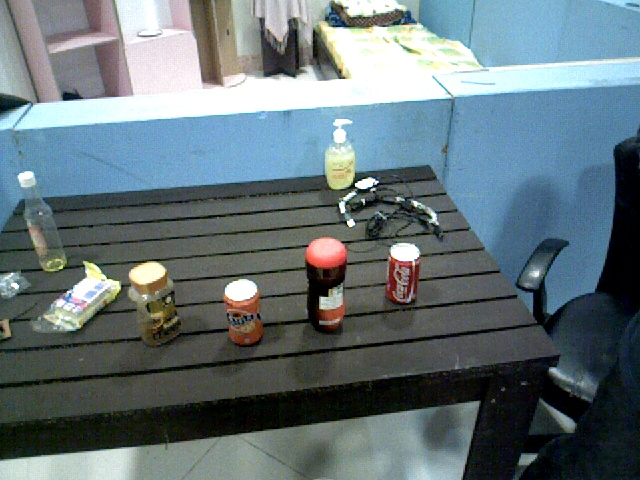coca: (386, 243, 422, 309)
coffee: (130, 258, 184, 349)
cream: (308, 236, 349, 335)
fanta: (225, 276, 266, 348)
